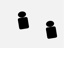human: (43, 19, 59, 39), (15, 10, 30, 29)
